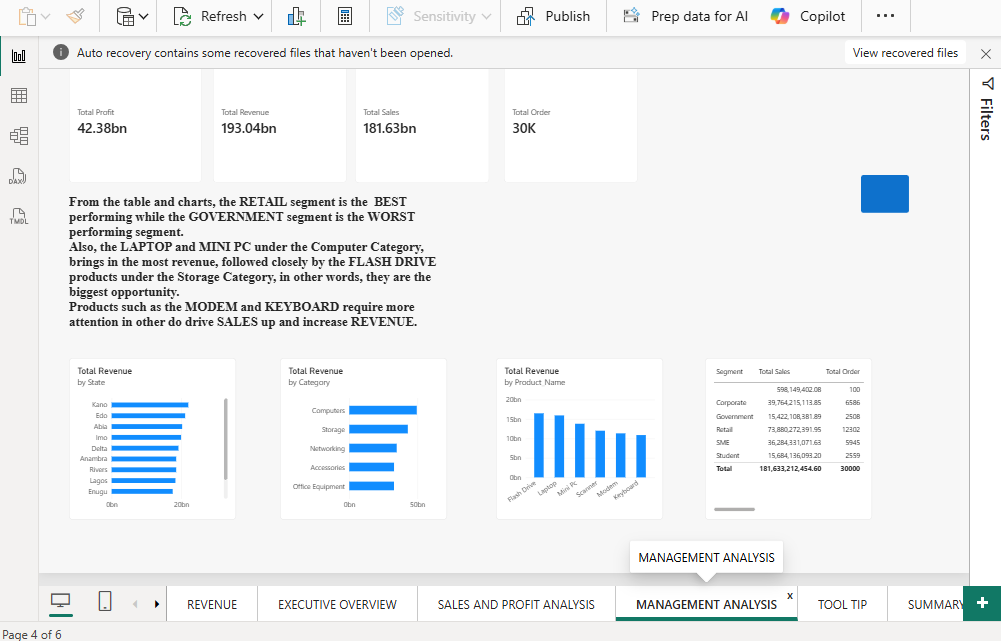

Layout of this report page (visuals, bound fields, positions):
{"tool":"powerbi","page":{"name":"MANAGEMENT ANALYSIS","canvas":[1920,1080],"ordinal":3},"visuals":[{"type":"clusteredBarChart","fields":{"Category":["Dim_Customers.State"],"Y":["Fact_Sales.Total Revenue"]},"box":[61.9,637.9,344.8,334.5],"z":0},{"type":"clusteredBarChart","fields":{"Category":["Dim_Products.Category"],"Y":["Fact_Sales.Total Revenue"]},"box":[497.5,637.9,344.8,334.5],"z":1000},{"type":"clusteredColumnChart","fields":{"Category":["Dim_Products.Product_Name"],"Y":["Fact_Sales.Total Revenue"]},"box":[943.5,637.9,344.8,334.5],"z":2000},{"type":"tableEx","fields":{"Values":["Dim_Customers.Segment","Fact_Sales.Total Sales","Fact_Sales.Total Order","Fact_Sales.Total Profit","Fact_Sales.Total Revenue","Fact_Targets.SALES TARGET","Fact_Sales.SALES VARIANCE","Fact_Sales.SALES ACHIEVEMENT","Fact_Sales.PERFORMANCE STATUS"]},"box":[1375,637.9,344.8,334.5],"z":3000},{"type":"cardVisual","fields":{"Data":["Fact_Sales.Total Profit"]},"box":[61.9,22.7,274.6,253.9],"z":4000},{"type":"cardVisual","fields":{"Data":["Fact_Sales.Total Revenue"]},"box":[359.2,22.7,276.6,253.9],"z":5000},{"type":"textbox","box":[61.9,299.4,780.4,305.5],"z":6000},{"type":"cardVisual","fields":{"Data":["Fact_Sales.Total Sales"]},"box":[652.4,22.7,277,254],"z":6001},{"type":"cardVisual","fields":{"Data":["Fact_Sales.Total Order"]},"box":[960,22.7,276.6,253.9],"z":6002},{"type":"actionButton","box":[1697,260.1,99.1,78.5],"z":6003}]}

Visuals, with their boxes on the page's 1920x1080 design canvas (x1, y1, x2, y2). These are canvas units, not pixel positions in the 1001x641 screenshot, which may show the page scaled, cropped or inside an application window:
clusteredBarChart - Dim_Customers.State x Fact_Sales.Total Revenue: box=[62, 638, 407, 972]
clusteredBarChart - Dim_Products.Category x Fact_Sales.Total Revenue: box=[498, 638, 842, 972]
clusteredColumnChart - Dim_Products.Product_Name x Fact_Sales.Total Revenue: box=[944, 638, 1288, 972]
tableEx - Dim_Customers.Segment x Fact_Sales.Total Sales: box=[1375, 638, 1720, 972]
cardVisual - Fact_Sales.Total Profit: box=[62, 23, 336, 277]
cardVisual - Fact_Sales.Total Revenue: box=[359, 23, 636, 277]
textbox: box=[62, 299, 842, 605]
cardVisual - Fact_Sales.Total Sales: box=[652, 23, 929, 277]
cardVisual - Fact_Sales.Total Order: box=[960, 23, 1237, 277]
actionButton: box=[1697, 260, 1796, 339]
